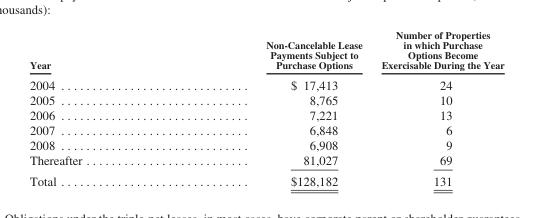table: (28, 28, 503, 187)
table column: (173, 28, 371, 187), (28, 28, 173, 187), (371, 28, 503, 187)
table column header: (28, 28, 503, 73)
table row: (28, 28, 503, 73), (28, 73, 503, 91), (28, 152, 503, 170), (28, 170, 503, 187), (28, 91, 503, 107), (28, 107, 503, 122), (28, 122, 503, 137), (28, 137, 503, 152)
